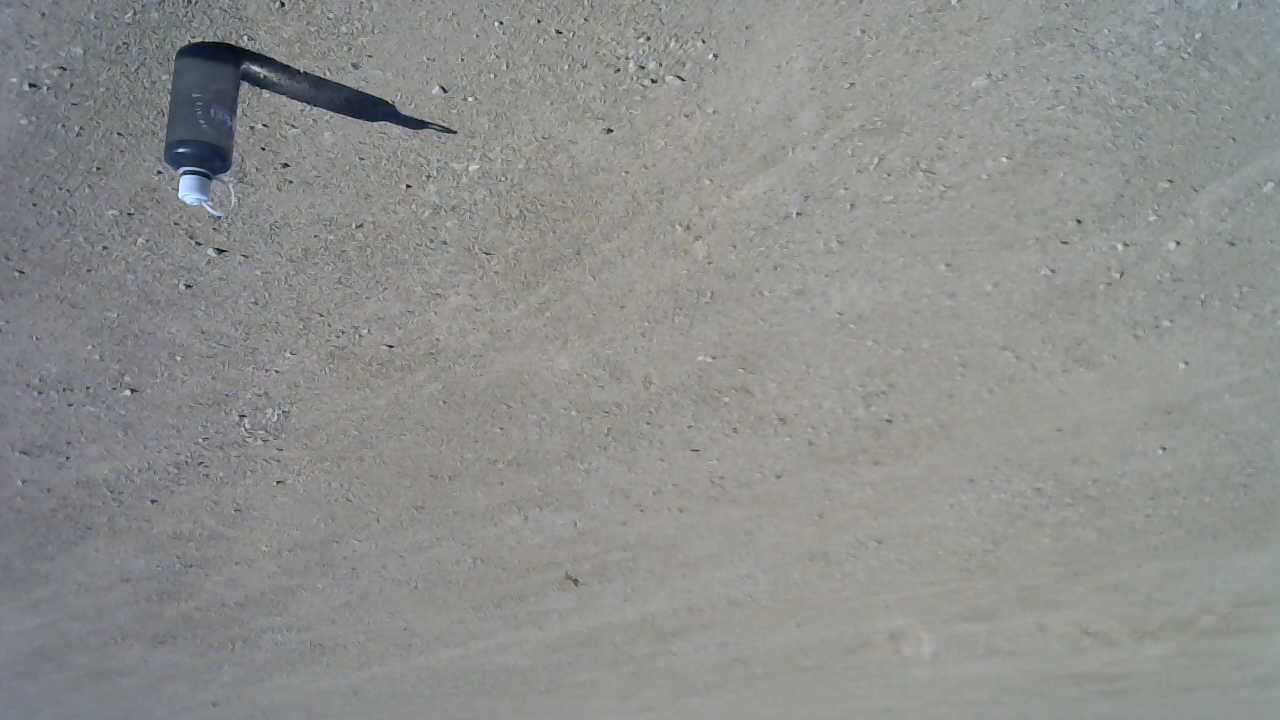bottle: (162, 25, 242, 223)
